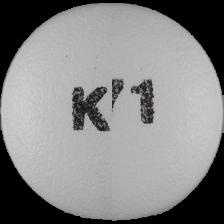62175-271: (0, 0, 224, 224)
